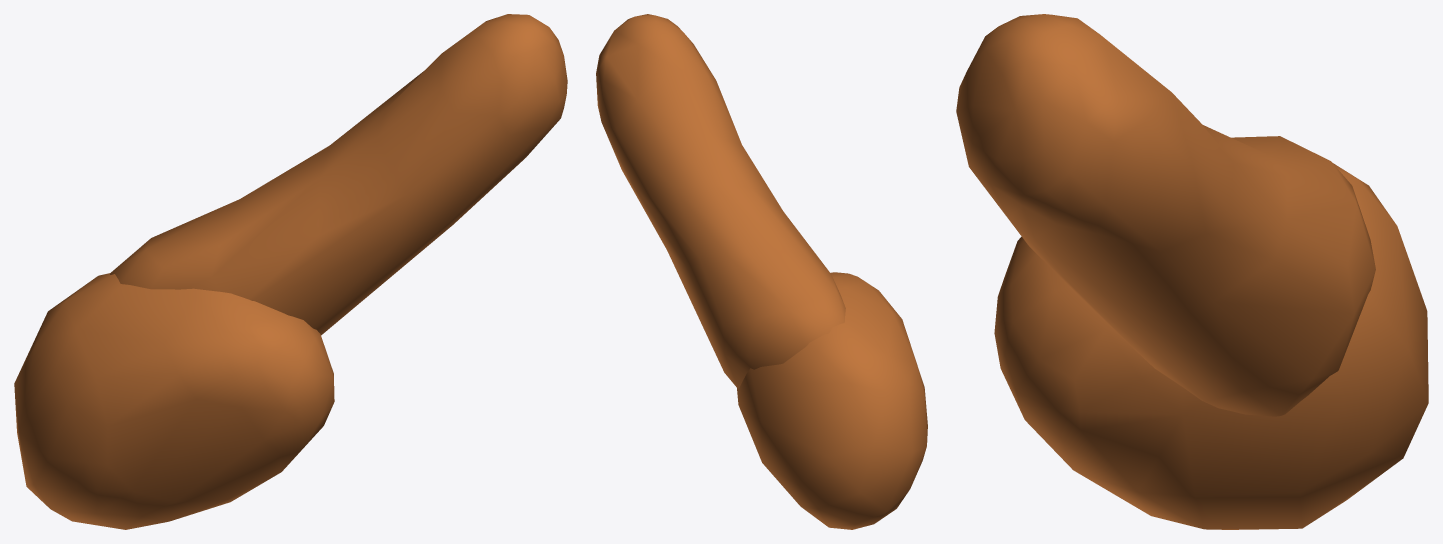
File: Inferior_colliculus_left.glb
3 views of the same model, side by side, from view 1: azimuth 30°, elevation 25°; view 2: azimuth 150°, elevation 25°; view 3: azimuth 270°, elevation 25° (orthographic). The views are drawn at different scales.
Parts seen in each view (by area): view 1: Inferior_colliculus.l_grp1.090; view 2: Inferior_colliculus.l_grp1.090; view 3: Inferior_colliculus.l_grp1.090.
Boxes of the visible parts, x1=… form: Inferior_colliculus.l_grp1.090: x1=14, y1=14, x2=567, y2=529; Inferior_colliculus.l_grp1.090: x1=596, y1=14, x2=927, y2=529; Inferior_colliculus.l_grp1.090: x1=956, y1=14, x2=1428, y2=529.
Size of the model in its own units: 0.0141 by 0.0141 by 0.00825.
